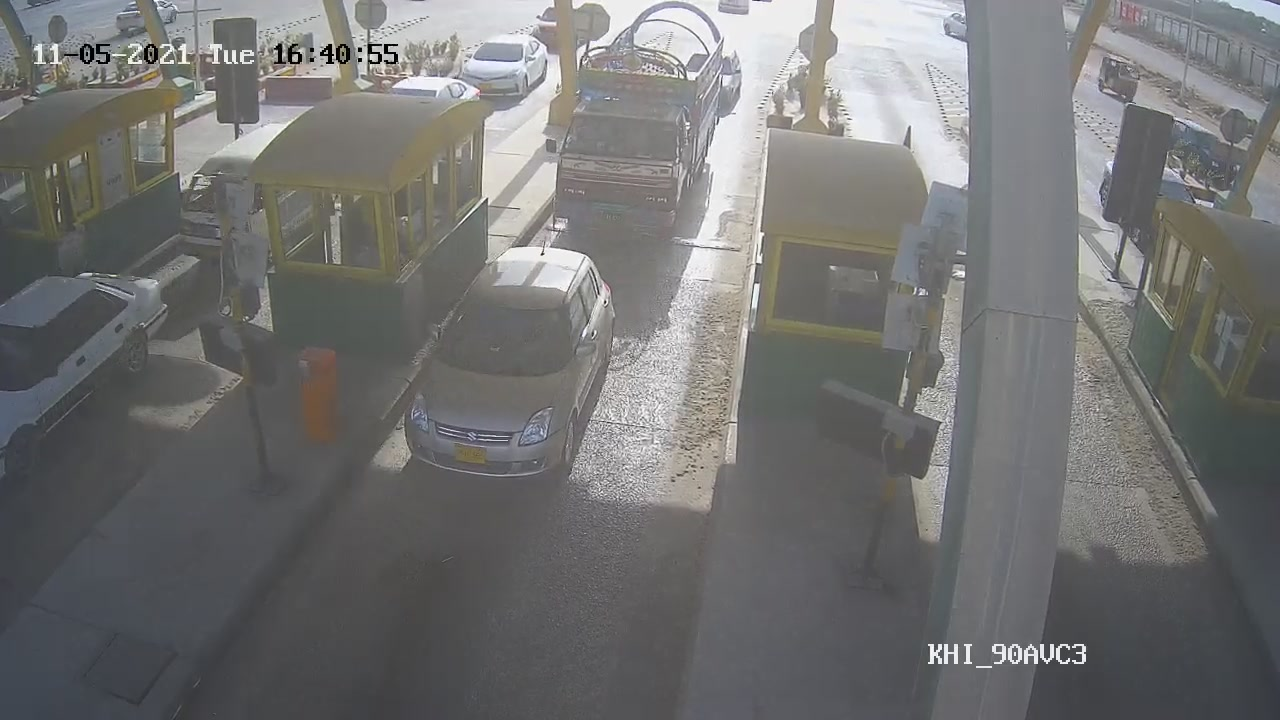F1: (396, 242, 628, 499)
F5: (551, 2, 728, 231)
